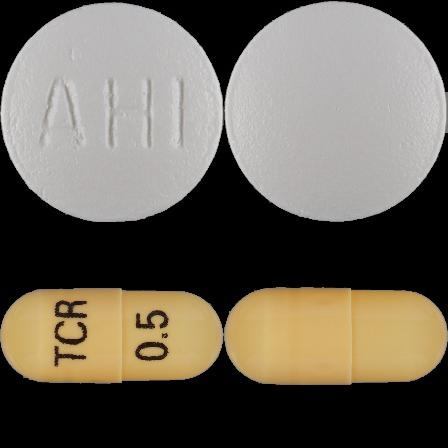16729-035: (0, 0, 224, 224)
